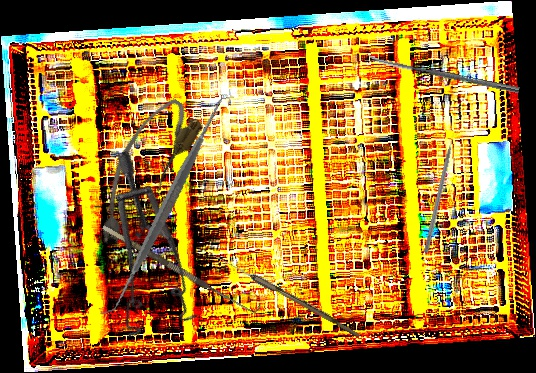Cannula: (74, 90, 209, 254)
Hook Surgical: (101, 216, 262, 318), (423, 132, 458, 254)
Spatula Surgical: (59, 95, 275, 316)
Speculum: (32, 146, 241, 362)
Surgical Spoon: (210, 252, 363, 338), (364, 53, 521, 94)
